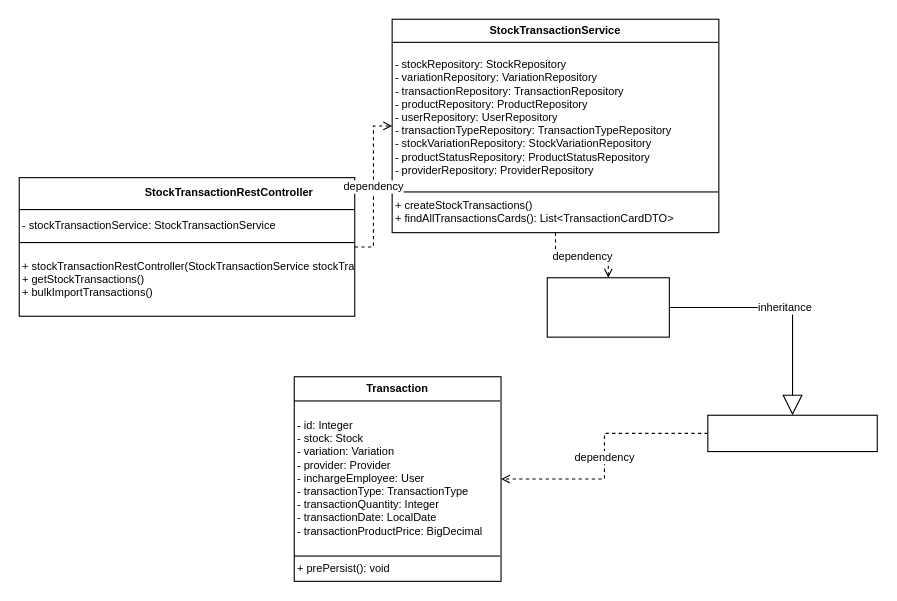
This 897x601 diagram has some shape labels left out. The centre of each missing label's shape, as x and y in pixels:
"<<Interface>> TransactionRepository + existsByProvider()" goes at point (607, 307).
"JpaRepository" goes at point (792, 433).
